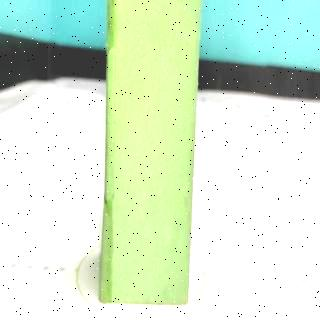greenbox: (100, 0, 204, 304)
